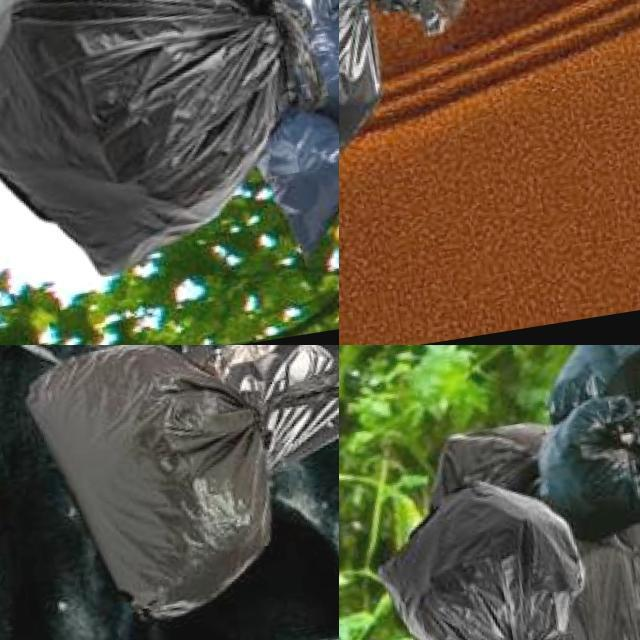waste: (0, 0, 339, 295), (20, 345, 297, 626), (405, 399, 640, 640), (361, 472, 597, 640), (339, 0, 410, 278), (532, 391, 640, 529), (252, 100, 339, 251), (540, 345, 640, 413), (304, 18, 339, 137)
